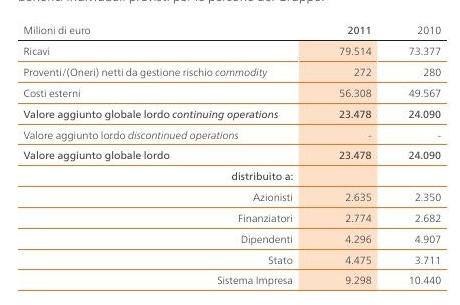table: (0, 0, 460, 305)
